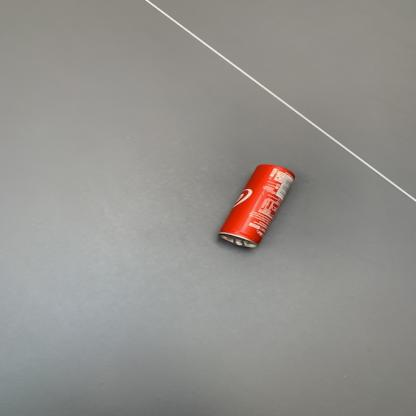trash: (214, 160, 295, 252)
